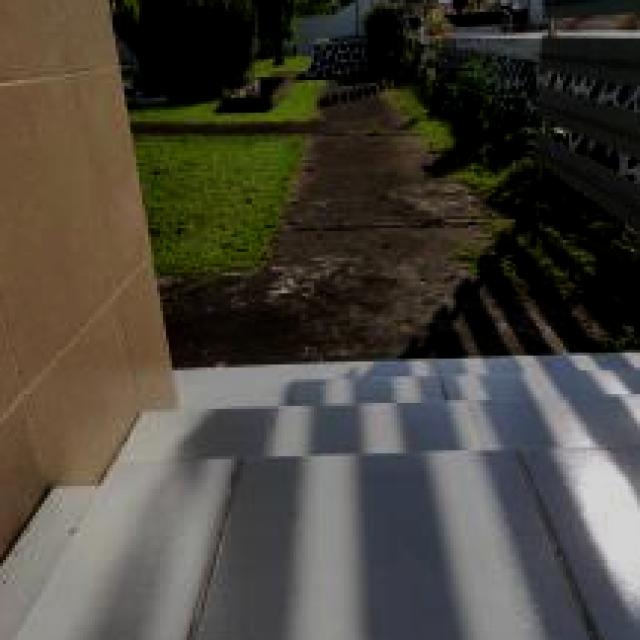downstair: (63, 339, 640, 585)
